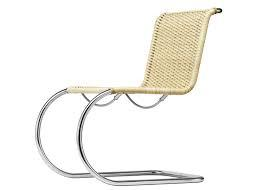chair: (18, 5, 232, 183)
